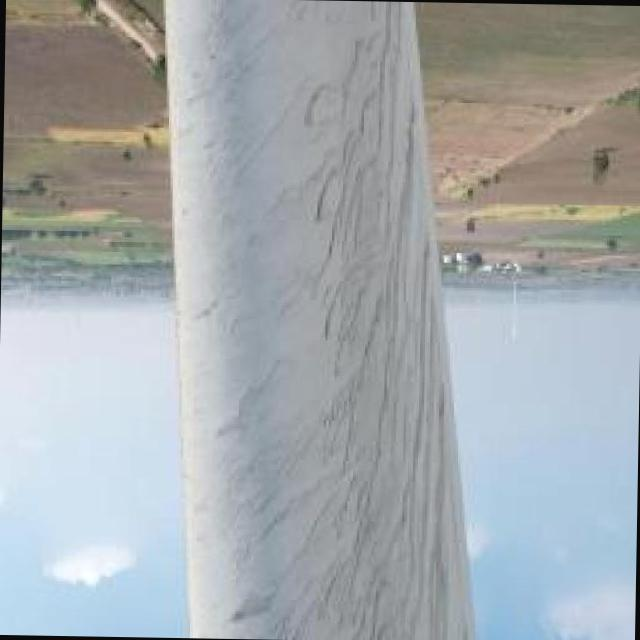Dirt: (194, 0, 468, 640)
